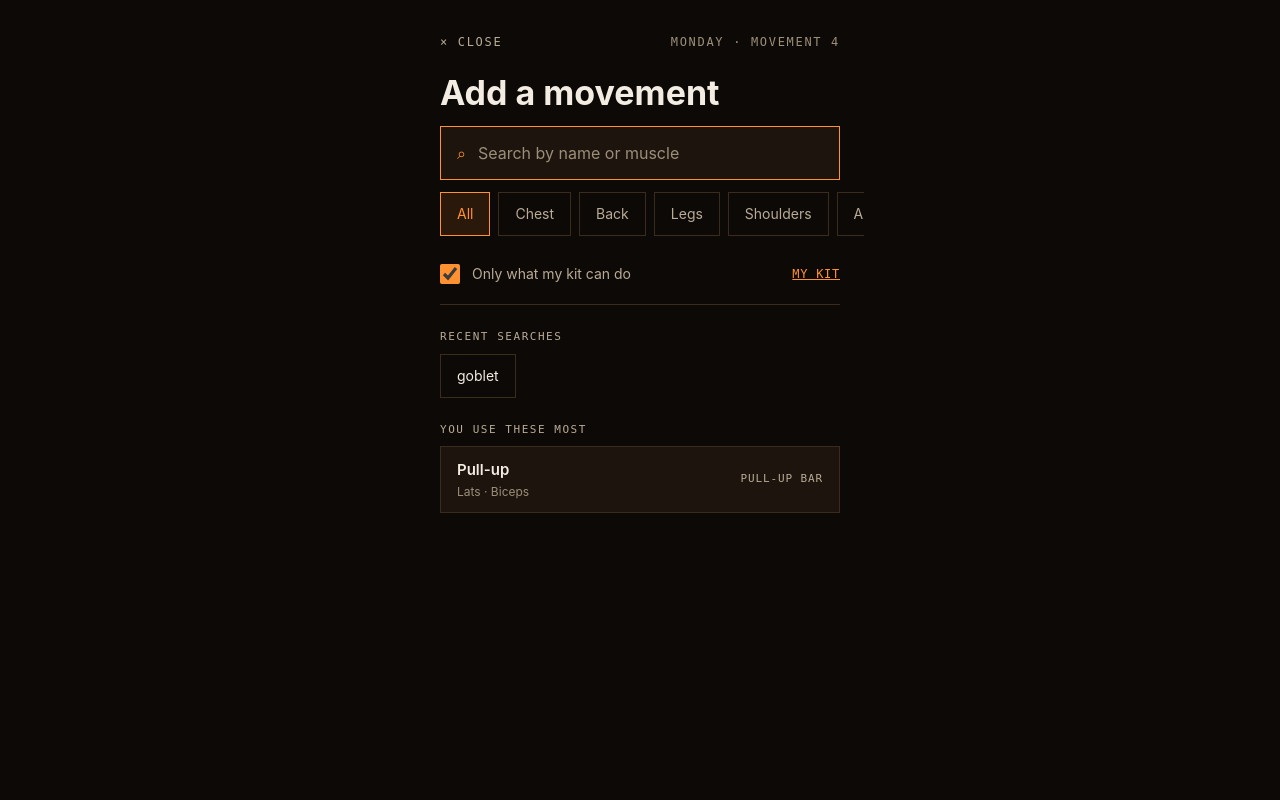
Test: the movement picker › opens on recent searches and the movements used most
Check: the text "MONDAY · MOVEMENT 4" is shown, box [671, 34, 840, 50]
Click the button "Pull-up Lats · Biceps PULL-UP BAR": (483,470) [440, 446, 840, 512]
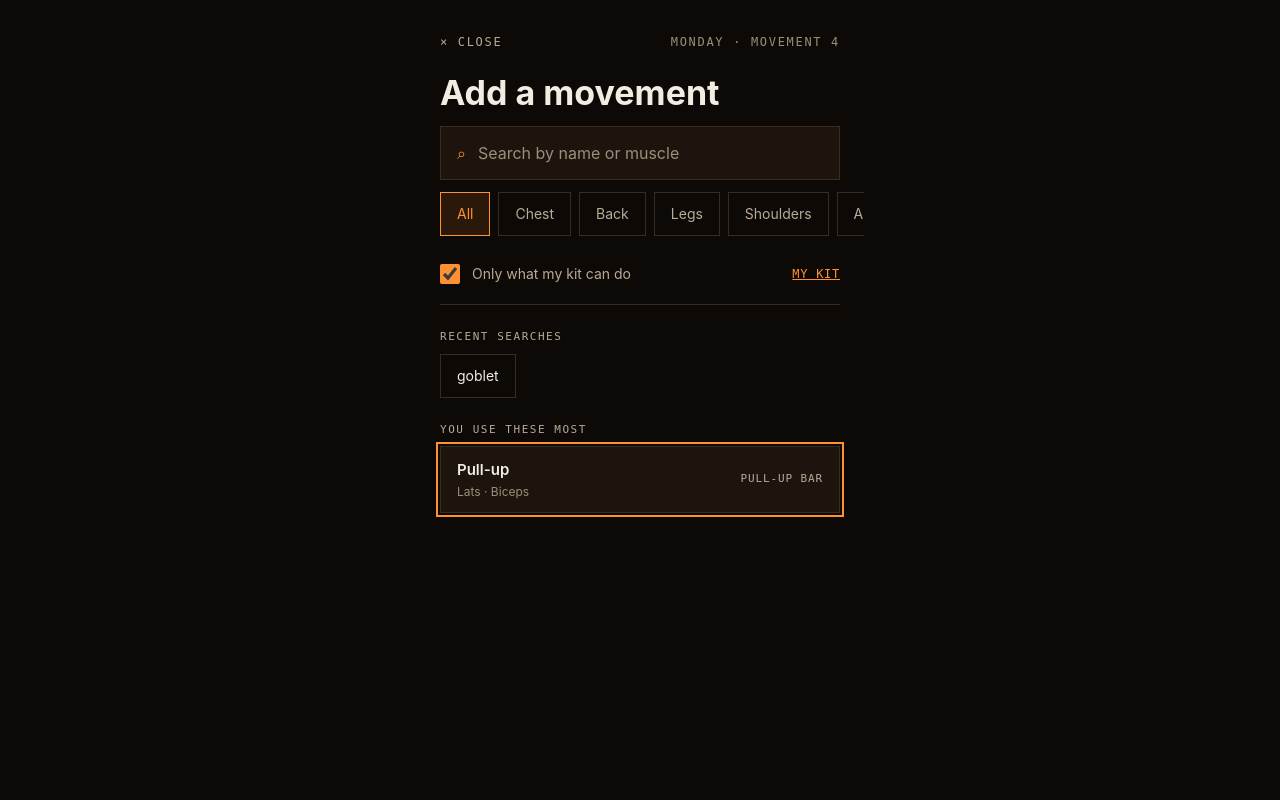
Click the button "goblet": (478,376) [440, 354, 516, 398]
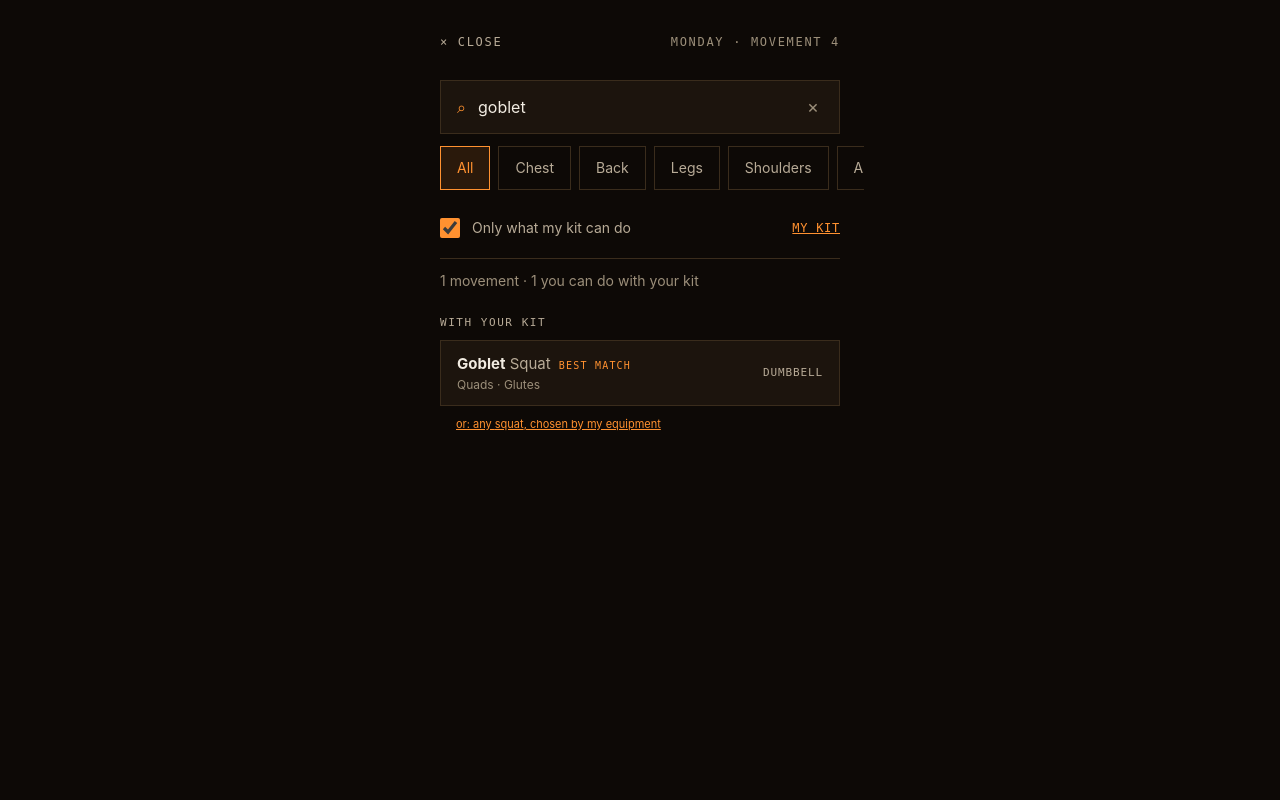
Check: the field named "Search movements" holds "goblet", box [478, 81, 791, 133]
